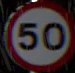Speed limit: (3, 2, 74, 72)
